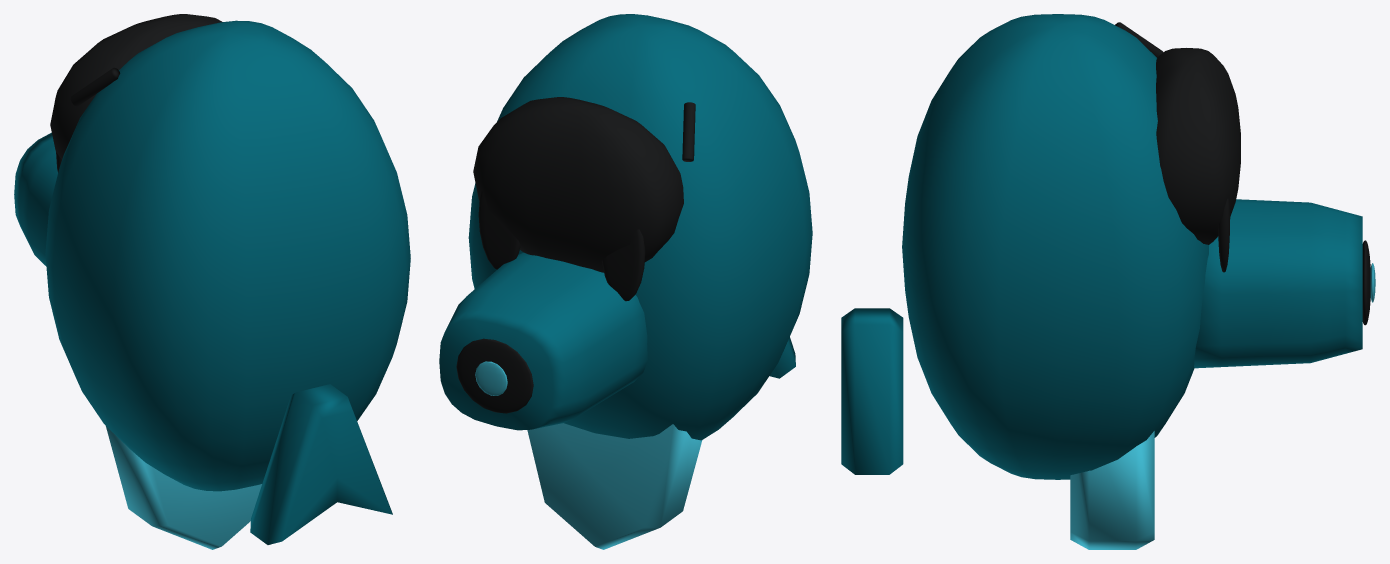
The model's file is RetroBlaster.glb.
The picture shows the model from 3 angles, left to right: view 1: azimuth 30°, elevation 25°; view 2: azimuth 150°, elevation 25°; view 3: azimuth 270°, elevation 25°; orthographic projection. The views are drawn at different scales.
Parts seen in each view (by area): view 1: Body, Tail, Jaw, Head, Weapon; view 2: Body, Head, Weapon, Jaw, Tail; view 3: Body, Weapon, Head, Tail, Jaw.
Part boxes in pixels (x1,y1,x2,y2): Body: (45, 20, 410, 491); Tail: (250, 384, 392, 544); Jaw: (106, 426, 261, 549); Head: (50, 14, 222, 172); Weapon: (14, 132, 57, 265); Body: (468, 14, 812, 440); Head: (473, 97, 683, 301); Weapon: (439, 252, 647, 430); Jaw: (527, 423, 702, 549); Tail: (769, 337, 795, 378); Body: (902, 14, 1208, 479); Weapon: (1194, 199, 1375, 368); Head: (1156, 48, 1240, 272); Tail: (841, 308, 903, 474); Jaw: (1070, 431, 1154, 549).
Size of the model in its own units: 0.6605 by 1.12 by 1.03.
1 material, 1 textured.
